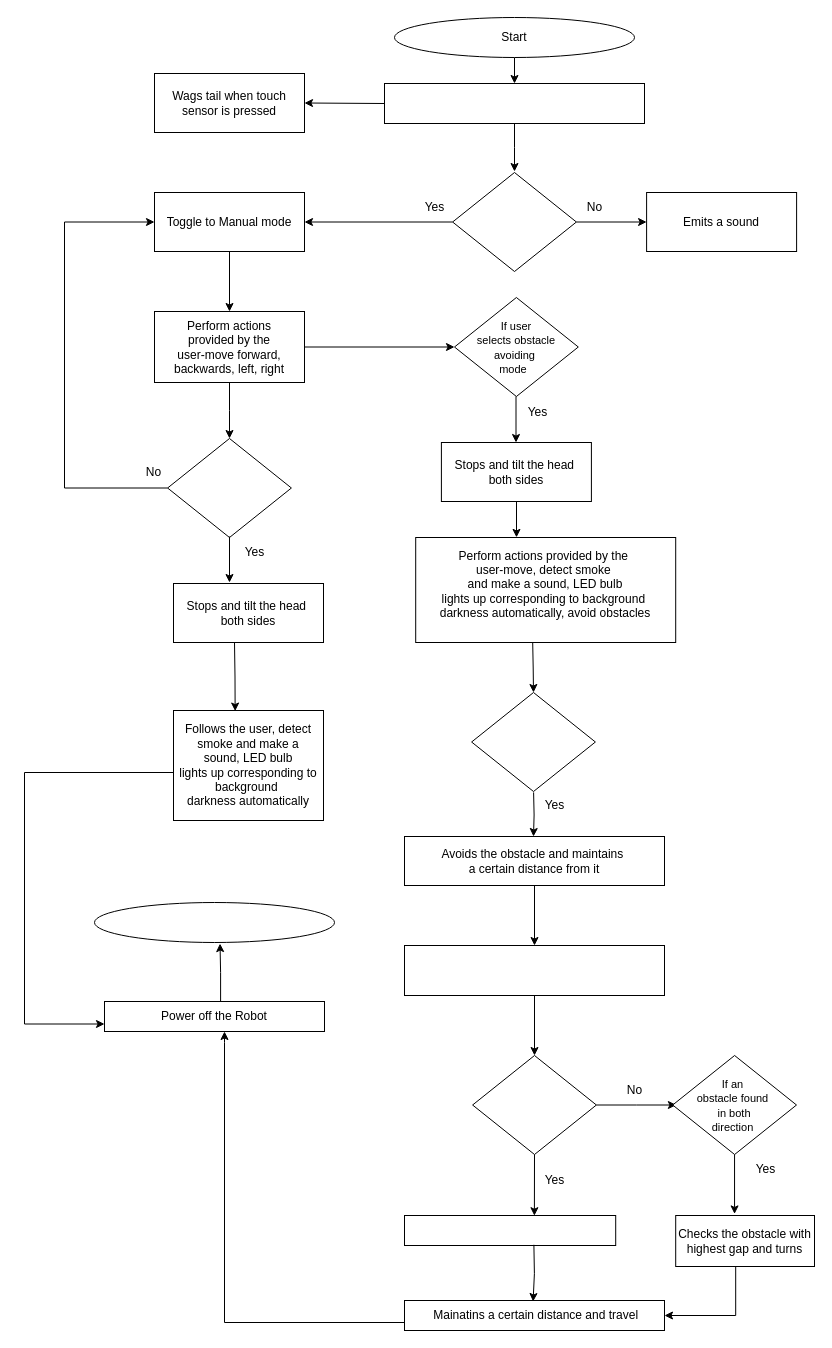
The diagram is 832 pixels wide and 1348 high, and some of its shapes have lost their labels. Each missing label, with the centre of its shape:
"End" goes at point 214,922.
"If an obstacle detected only in one direction" goes at point 534,1104.
"If Bluetooth connection is successful" goes at point 514,222.
"If obstacle is detected" goes at point 533,742.
"If user selects user follow mode" goes at point 229,488.
"Power on the robot" goes at point 514,103.
"Turn the head both sides and searches for an obstacle" goes at point 534,970.
"Turns to opposite direction" goes at point 510,1230.
